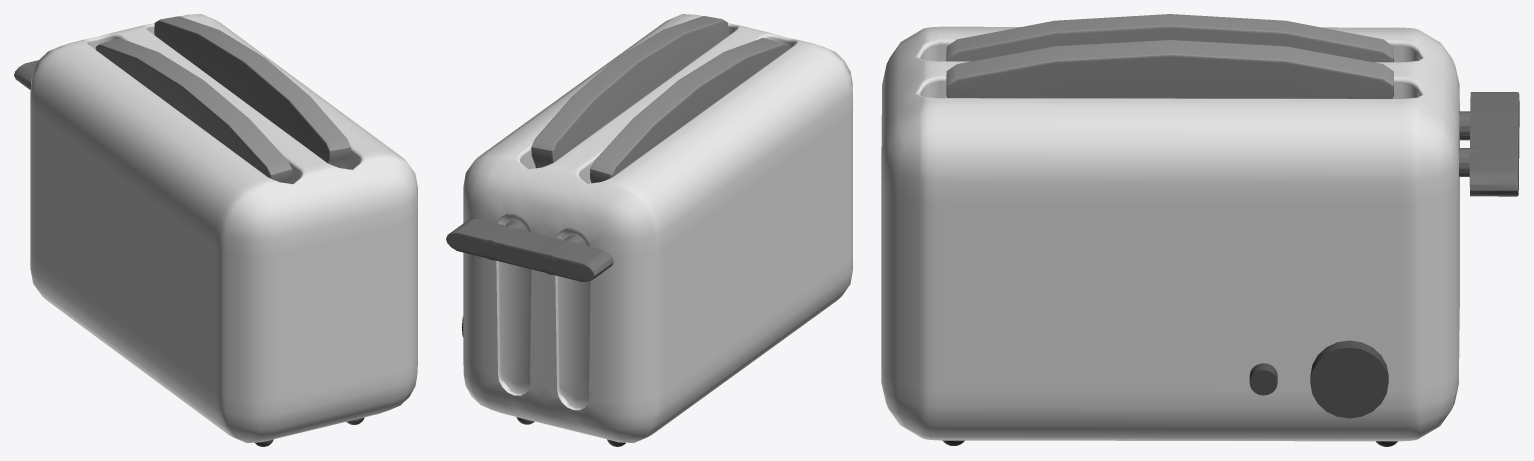
The model's file is geo_toaster.fbx.
3 renders of one model, left to right at view 1: azimuth 30°, elevation 25°; view 2: azimuth 150°, elevation 25°; view 3: azimuth 270°, elevation 25°, orthographic. The views are drawn at different scales.
Visible parts, largest first — view 1: geo_toaster; view 2: geo_toaster; view 3: geo_toaster.
Part boxes in pixels (x1,y1,x2,y2): geo_toaster: (14, 14, 417, 446); geo_toaster: (446, 14, 852, 446); geo_toaster: (881, 14, 1519, 446).
Size of the model in its own units: 0.2766 by 0.3865 by 0.5733.
Materials: 1 (1 with a texture image).
